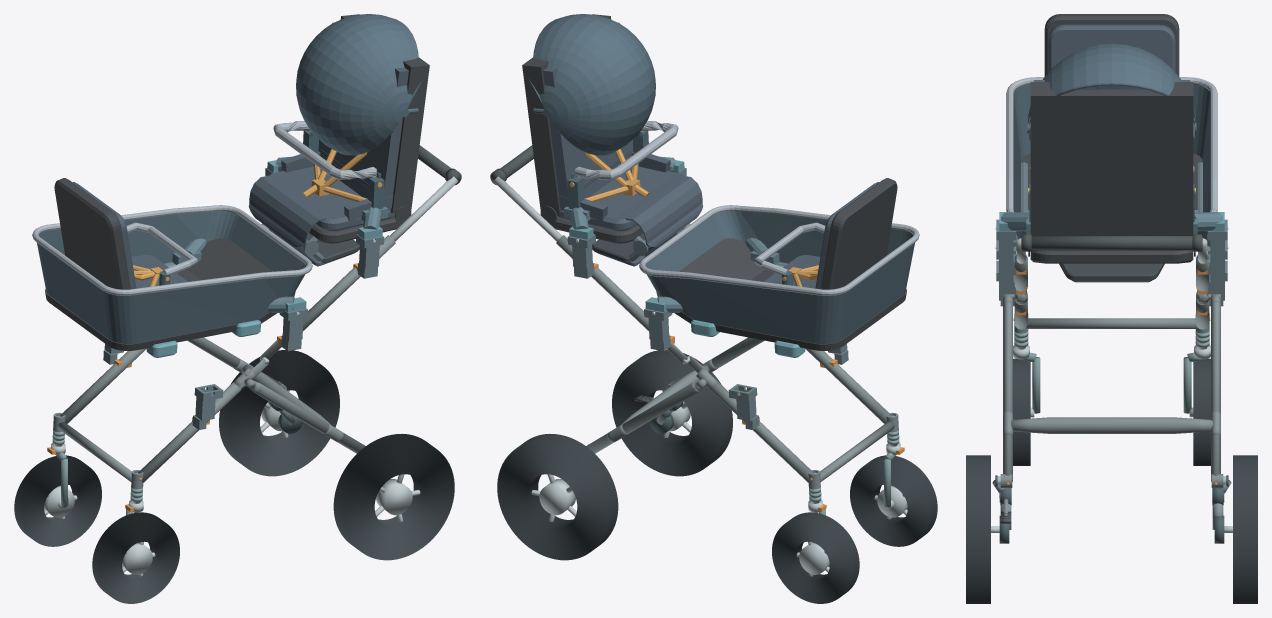
The model's file is D20_w550_state1_wheel_L.glb.
The picture shows the model from 3 angles, left to right: view 1: azimuth 30°, elevation 25°; view 2: azimuth 150°, elevation 25°; view 3: azimuth 270°, elevation 25°; orthographic projection. The views are drawn at different scales.
Visible parts, largest first — view 1: D20_Lower, D20_Upper, RL_tire.002, RR_tire.002, FL_tire.002, FR_tire.002, main_lower_-1.003, V46_rear_leg_-1.003, main_lower_1.003, main_upper_-1.003, D20_Lower_Mount_M, RL_sealed_hub.002 (+9 smaller); view 2: D20_Lower, D20_Upper, RR_tire.002, RL_tire.002, FR_tire.002, FL_tire.002, V46_rear_leg_1.003, main_lower_1.003, main_lower_-1.003, main_upper_1.003, RR_sealed_hub.002, D20_Lower_Mount_M (+9 smaller); view 3: D20_Upper, D20_Lower, RL_tire.002, RR_tire.002, V46_rearbar.003, round_handle.002, front_fixed_round_tube.002, FL_tire.002, FR_tire.002, V46_rear_leg_1.003, V46_rear_leg_-1.003, D20_Upper_Mount_H (+6 smaller).
Part boxes in pixels (left/top/right/bottom): D20_Lower: left=32, top=178, right=312, bottom=357; D20_Upper: left=248, top=14, right=429, bottom=266; RL_tire.002: left=333, top=433, right=454, bottom=560; RR_tire.002: left=219, top=350, right=339, bottom=476; FL_tire.002: left=92, top=512, right=179, bottom=603; FR_tire.002: left=14, top=455, right=101, bottom=546; main_lower_-1.003: left=138, top=382, right=244, bottom=482; V46_rear_leg_-1.003: left=252, top=382, right=365, bottom=453; main_lower_1.003: left=60, top=348, right=146, bottom=423; main_upper_-1.003: left=303, top=235, right=395, bottom=330; D20_Lower_Mount_M: left=172, top=238, right=306, bottom=314; RL_sealed_hub.002: left=376, top=479, right=412, bottom=515; D20_Lower: left=639, top=178, right=919, bottom=357; D20_Upper: left=522, top=14, right=703, bottom=266; RR_tire.002: left=497, top=433, right=618, bottom=560; RL_tire.002: left=612, top=350, right=732, bottom=476; FR_tire.002: left=772, top=512, right=859, bottom=603; FL_tire.002: left=850, top=455, right=937, bottom=546; V46_rear_leg_1.003: left=586, top=382, right=699, bottom=453; main_lower_1.003: left=707, top=382, right=813, bottom=482; main_lower_-1.003: left=805, top=348, right=891, bottom=423; main_upper_1.003: left=556, top=235, right=648, bottom=330; RR_sealed_hub.002: left=539, top=479, right=575, bottom=515; D20_Lower_Mount_M: left=645, top=238, right=779, bottom=314; D20_Upper: left=1027, top=43, right=1196, bottom=282; D20_Lower: left=1006, top=14, right=1217, bottom=250; RL_tire.002: left=966, top=455, right=990, bottom=603; RR_tire.002: left=1233, top=455, right=1257, bottom=603; V46_rearbar.003: left=1011, top=417, right=1212, bottom=433; round_handle.002: left=1021, top=236, right=1202, bottom=249; front_fixed_round_tube.002: left=1026, top=318, right=1197, bottom=328; FL_tire.002: left=1013, top=358, right=1030, bottom=465; FR_tire.002: left=1193, top=358, right=1210, bottom=465; V46_rear_leg_1.003: left=1211, top=300, right=1220, bottom=481; V46_rear_leg_-1.003: left=1003, top=300, right=1012, bottom=481; D20_Upper_Mount_H: left=995, top=210, right=1228, bottom=234.
Bounding box in the file's own units: 1.19 × 1.51 × 0.7071.
